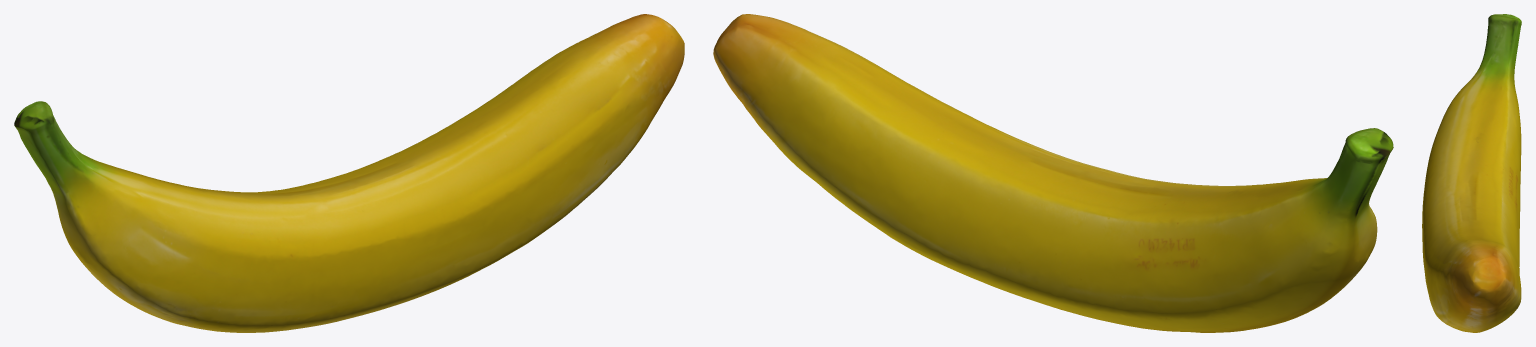
3 renders of one model, left to right at view 1: azimuth 30°, elevation 25°; view 2: azimuth 150°, elevation 25°; view 3: azimuth 270°, elevation 25°, orthographic. The views are drawn at different scales.
Parts seen in each view (by area): view 1: visual.011; view 2: visual.011; view 3: visual.011.
Boxes of the visible parts, bbox=[...] form: visual.011: bbox=[14, 14, 684, 332]; visual.011: bbox=[713, 14, 1393, 332]; visual.011: bbox=[1422, 14, 1521, 332].
Bounding box in the file's own units: 0.1967 × 0.0746 × 0.0367.
1 material, 1 textured.
